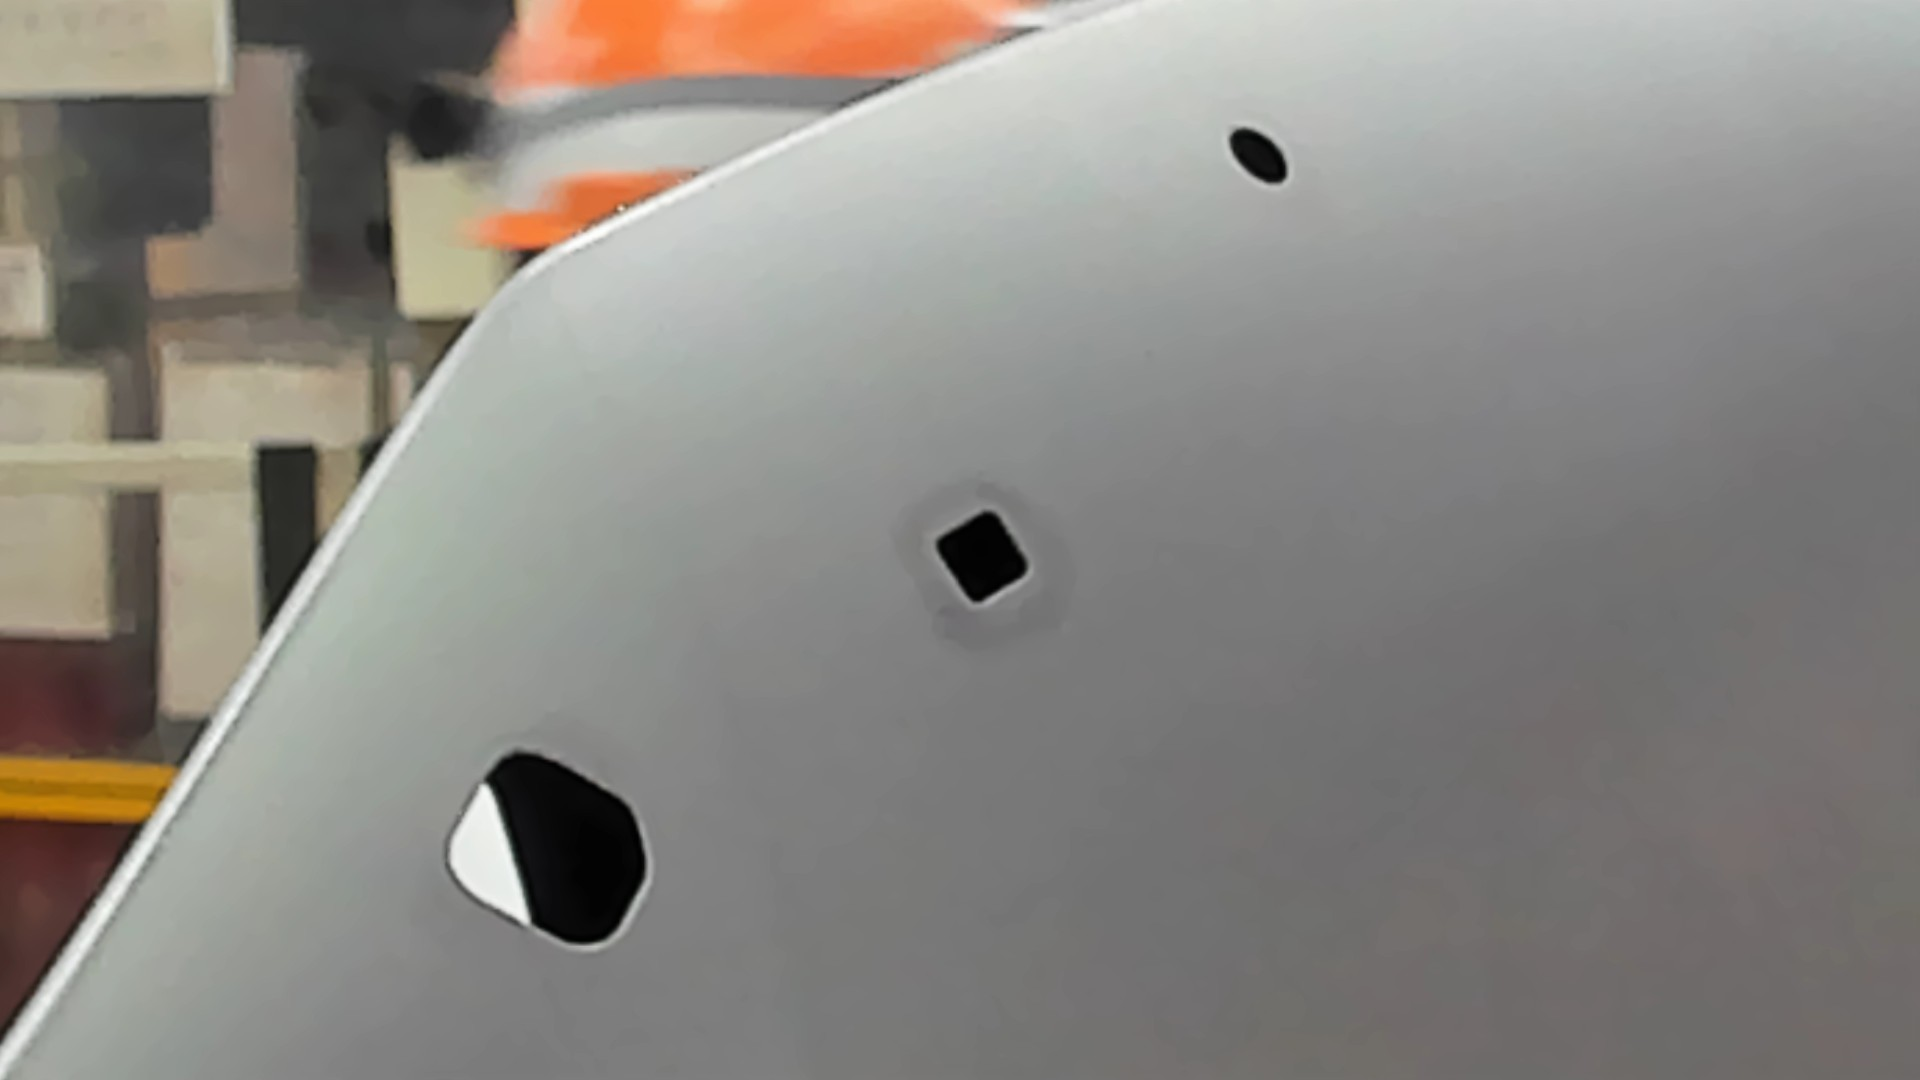capo: (1042, 193, 1920, 1080)
chico: (1222, 120, 1292, 191)
grande: (442, 745, 657, 961)
mediano: (928, 504, 1039, 617)
